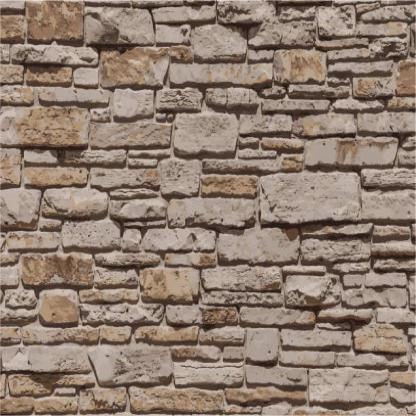Sedimentary_Sandstone: (260, 161, 369, 238), (86, 340, 177, 394), (0, 100, 89, 152), (216, 217, 299, 268), (80, 2, 156, 51), (5, 35, 98, 72), (169, 106, 239, 154), (37, 179, 111, 221), (220, 316, 280, 363), (188, 22, 250, 64), (271, 46, 331, 89), (86, 160, 156, 194), (106, 82, 156, 124)
